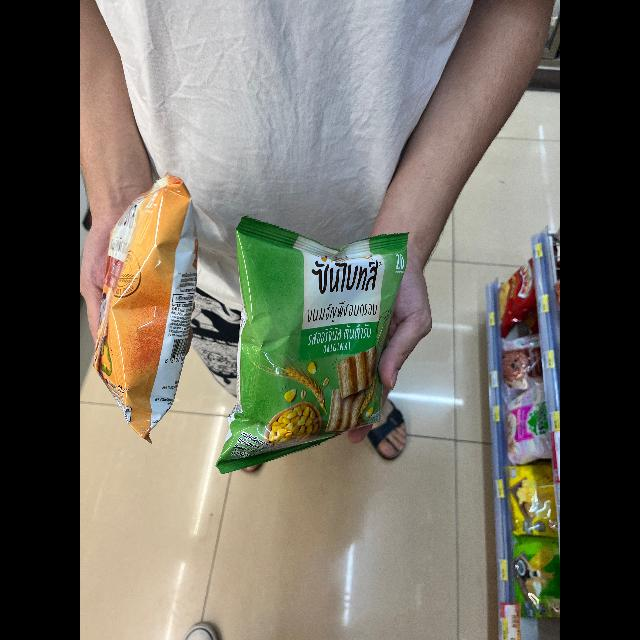snack_bag: (200, 218, 418, 468), (96, 176, 200, 436)
